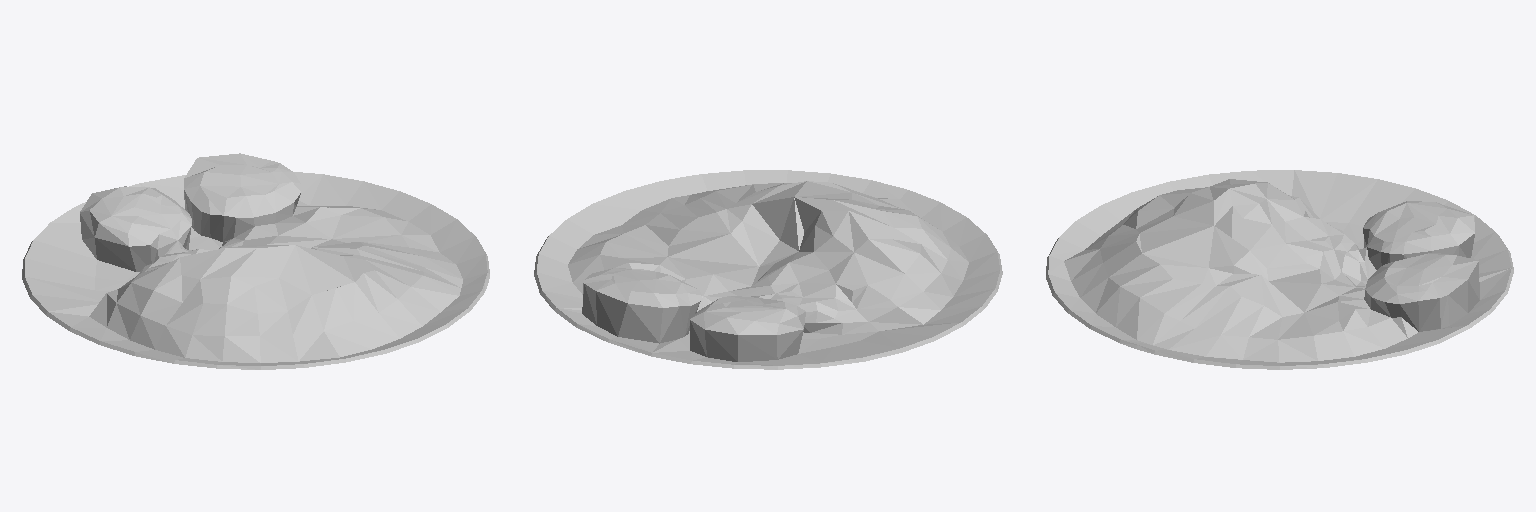
Rendered from comida.obj.
3 renders of one model, left to right at view 1: azimuth 30°, elevation 25°; view 2: azimuth 150°, elevation 25°; view 3: azimuth 270°, elevation 25°, orthographic.
Parts seen in each view (by area): view 1: Food_uv_polySurface1; view 2: Food_uv_polySurface1; view 3: Food_uv_polySurface1.
Boxes of the visible parts, box(x1,y1,x2,y2) form: Food_uv_polySurface1: box(22, 153, 489, 369); Food_uv_polySurface1: box(534, 170, 1002, 369); Food_uv_polySurface1: box(1046, 170, 1513, 369).
Size of the model in its own units: 2 by 0.3799 by 2.